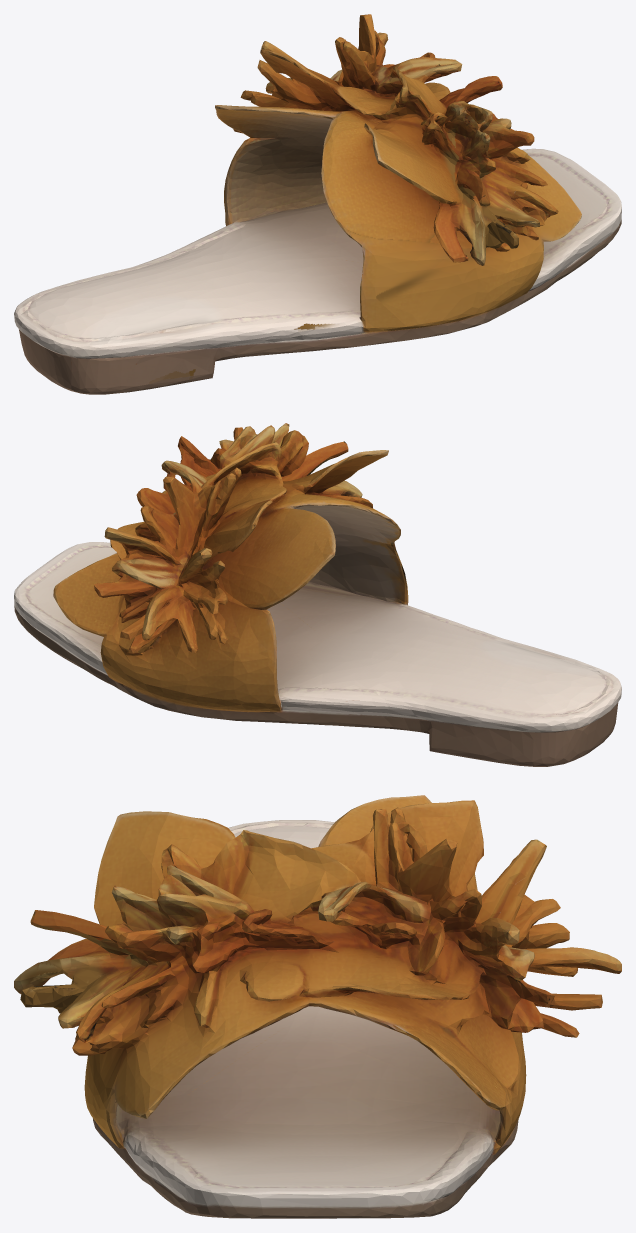
The picture shows the model from 3 angles, top to bottom: view 1: azimuth 30°, elevation 25°; view 2: azimuth 150°, elevation 25°; view 3: azimuth 270°, elevation 25°; orthographic projection. The views are drawn at different scales.
Visible parts, largest first — view 1: world; view 2: world; view 3: world.
Part boxes in pixels (left/top/right/bottom): world: left=14, top=14, right=621, bottom=394; world: left=14, top=423, right=621, bottom=766; world: left=14, top=795, right=621, bottom=1218.
Size of the model in its own units: 1 by 0.3885 by 0.6637.
Materials: 1 (1 with a texture image).
